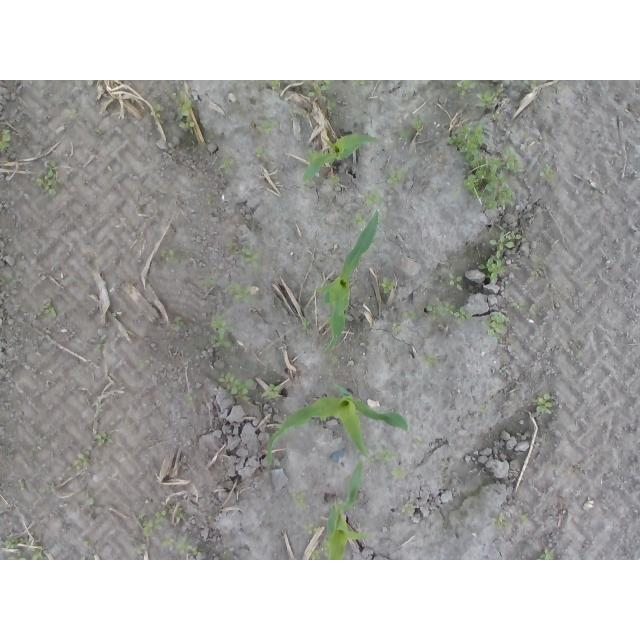Maize: (267, 382, 410, 470), (317, 210, 379, 355), (327, 462, 378, 560), (303, 131, 382, 185)
Weeds: (450, 124, 525, 212), (478, 233, 527, 284), (140, 508, 185, 537), (219, 373, 253, 400), (4, 538, 45, 560), (173, 91, 195, 129), (482, 310, 511, 338), (428, 302, 468, 322), (37, 163, 59, 197), (163, 539, 202, 558), (209, 316, 232, 348), (225, 285, 257, 303), (401, 116, 424, 140), (308, 82, 328, 103), (535, 394, 554, 415), (262, 383, 283, 401), (377, 446, 398, 463), (474, 91, 494, 107), (539, 164, 557, 181), (242, 250, 261, 266), (1, 129, 12, 154), (161, 249, 180, 263), (449, 273, 463, 291), (515, 305, 537, 316), (458, 80, 475, 94), (95, 432, 111, 446), (293, 495, 307, 510), (257, 123, 276, 134), (540, 548, 557, 560), (381, 278, 395, 292), (367, 191, 381, 205), (78, 454, 90, 470), (150, 104, 164, 117), (98, 334, 107, 354), (403, 502, 417, 514), (425, 356, 439, 368), (306, 525, 321, 536), (46, 303, 57, 317), (198, 279, 215, 288), (388, 171, 400, 183), (174, 317, 186, 329), (495, 514, 506, 527), (353, 215, 366, 226), (220, 159, 233, 169), (185, 393, 195, 405), (524, 80, 536, 90), (136, 543, 148, 553), (85, 497, 95, 508), (228, 244, 240, 253), (392, 470, 404, 479), (331, 175, 341, 185), (205, 191, 212, 205), (413, 439, 427, 446), (66, 108, 76, 117), (272, 82, 281, 91), (408, 310, 417, 319), (554, 82, 563, 91), (352, 80, 365, 86), (140, 360, 149, 368), (258, 148, 267, 156), (392, 323, 400, 332), (82, 539, 90, 548), (578, 352, 583, 361), (303, 320, 307, 331), (38, 489, 46, 494), (81, 556, 88, 560)
